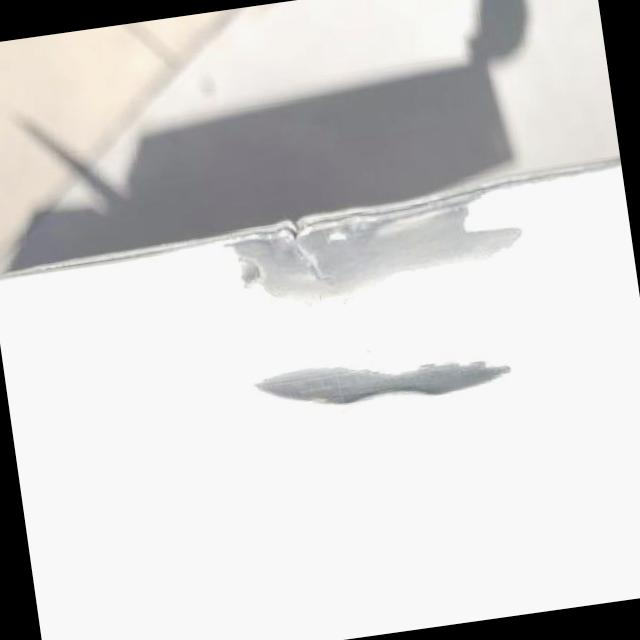crack: (290, 228, 350, 300)
